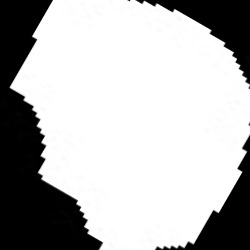spot: (9, 1, 248, 249)
